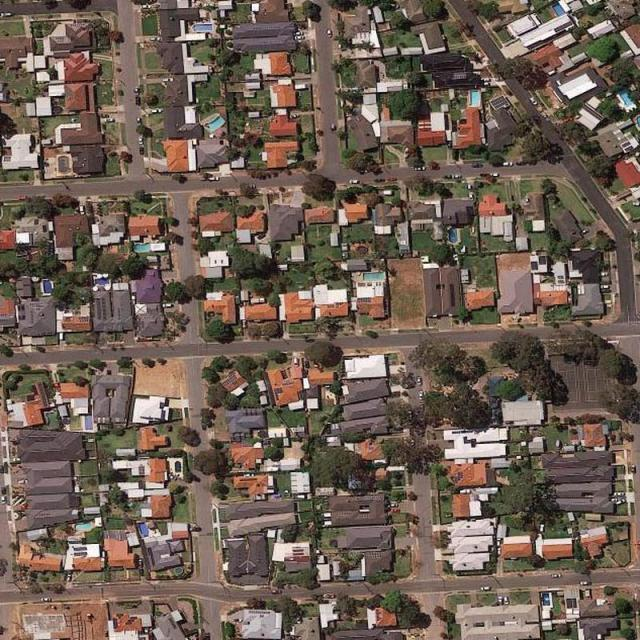vehicle: (529, 96, 538, 106), (150, 107, 162, 114), (207, 176, 219, 182), (418, 390, 424, 402), (2, 11, 14, 17), (387, 502, 399, 508), (470, 163, 482, 169), (616, 499, 626, 506), (580, 580, 591, 586), (1, 494, 7, 505), (242, 319, 248, 330), (134, 97, 141, 106), (349, 179, 361, 184), (78, 204, 84, 214), (459, 489, 471, 494), (386, 177, 398, 182), (601, 284, 611, 290), (324, 594, 336, 599), (296, 614, 302, 624), (502, 162, 513, 167), (39, 597, 50, 602), (391, 507, 400, 513), (417, 376, 422, 386), (162, 303, 172, 308), (105, 118, 115, 123), (272, 589, 282, 594), (326, 28, 332, 36), (414, 167, 426, 171), (613, 491, 625, 495), (243, 473, 255, 477), (631, 464, 636, 473), (134, 86, 139, 95), (470, 192, 475, 201), (295, 35, 306, 39), (161, 78, 172, 82), (582, 227, 588, 234), (138, 137, 143, 145), (294, 31, 304, 35), (498, 597, 503, 605), (505, 597, 510, 605), (551, 574, 561, 578), (137, 118, 142, 126), (290, 114, 298, 119), (18, 479, 28, 483), (430, 166, 440, 170), (497, 539, 502, 547), (452, 175, 461, 179), (331, 123, 335, 132), (490, 173, 499, 177), (294, 357, 298, 366), (482, 586, 490, 590), (138, 557, 142, 565), (66, 574, 70, 582), (14, 458, 21, 462), (601, 272, 608, 276), (498, 548, 501, 555)
